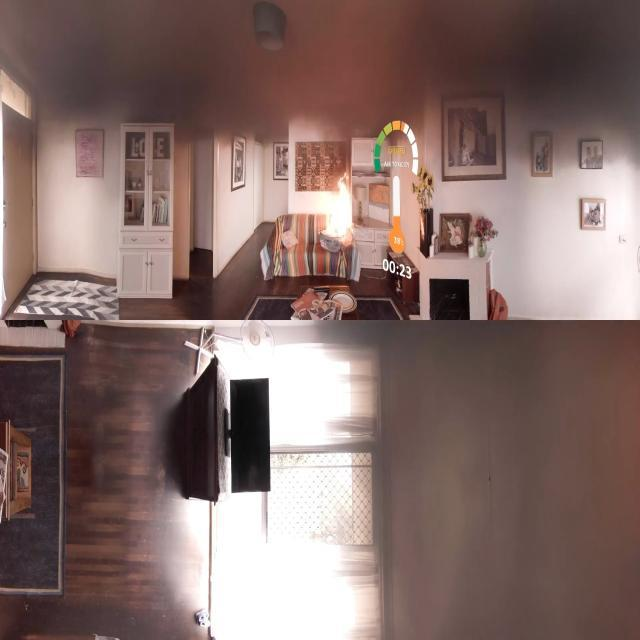Fire: (324, 178, 361, 238)
